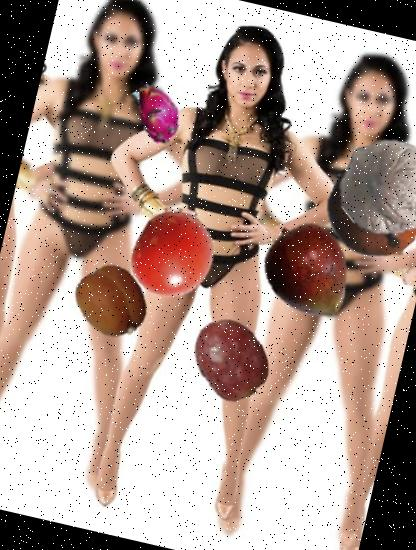Apricot: (68, 258, 157, 346)
Granadilla: (315, 148, 416, 268)
Grape: (182, 308, 282, 409)
Mango: (247, 209, 371, 333)
Pitahaya: (119, 76, 196, 152)
Tomato: (120, 201, 226, 308)
Walnut: (327, 125, 416, 247)
